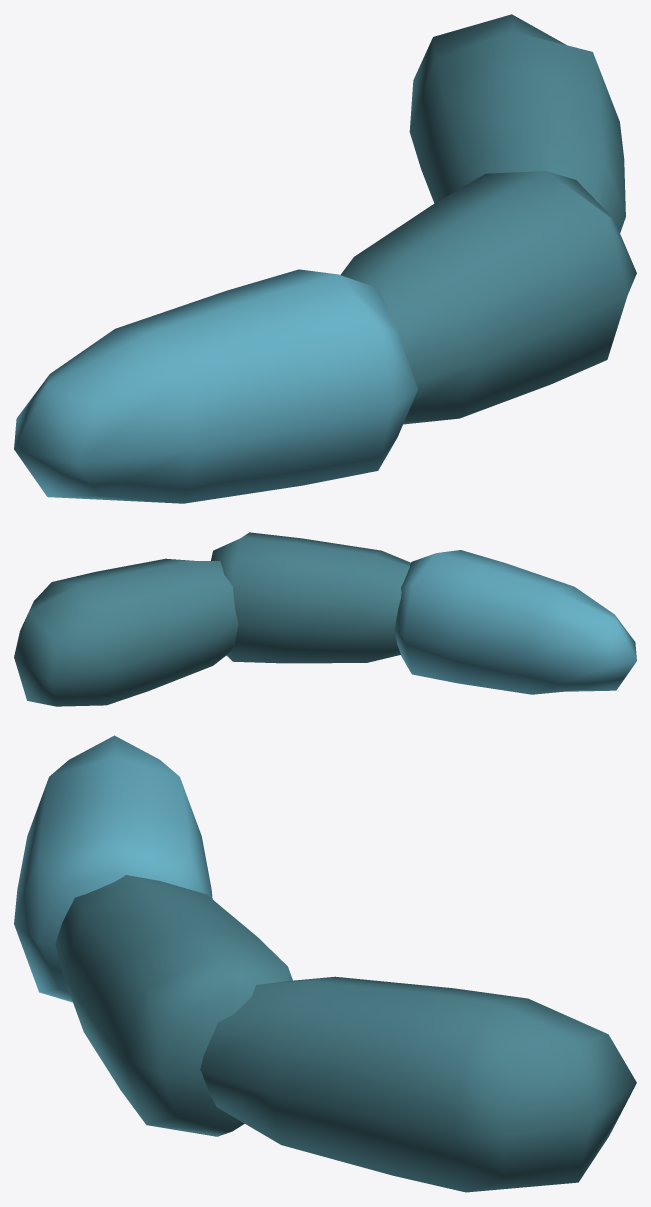
File: Lobster_4_Claw_2.fbx
3 views of the same model, one above another, from view 1: azimuth 30°, elevation 25°; view 2: azimuth 150°, elevation 25°; view 3: azimuth 270°, elevation 25° (orthographic). The views are drawn at different scales.
Visible parts, largest first — view 1: Lobster_4_Claw_2; view 2: Lobster_4_Claw_2; view 3: Lobster_4_Claw_2.
Boxes of the visible parts, x1=… form: Lobster_4_Claw_2: x1=14, y1=14, x2=636, y2=503; Lobster_4_Claw_2: x1=14, y1=532, x2=636, y2=706; Lobster_4_Claw_2: x1=14, y1=735, x2=636, y2=1192.
Bounding box in the file's own units: 13.38 × 3.15 × 9.56.
